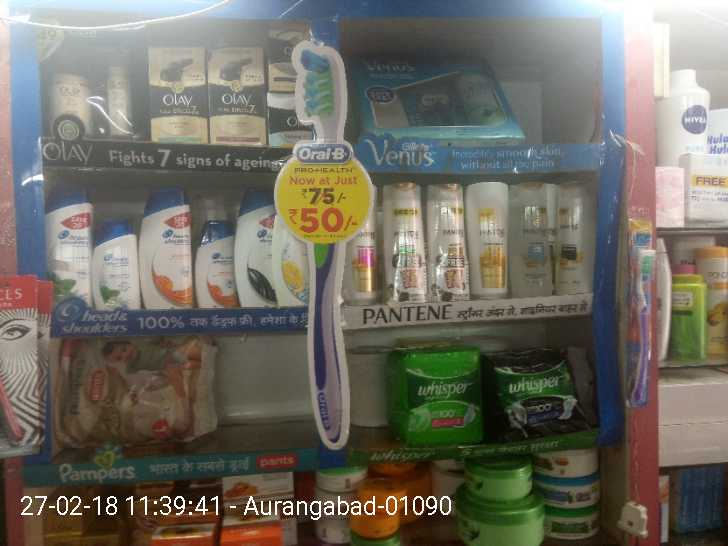venus: (351, 44, 517, 138)
